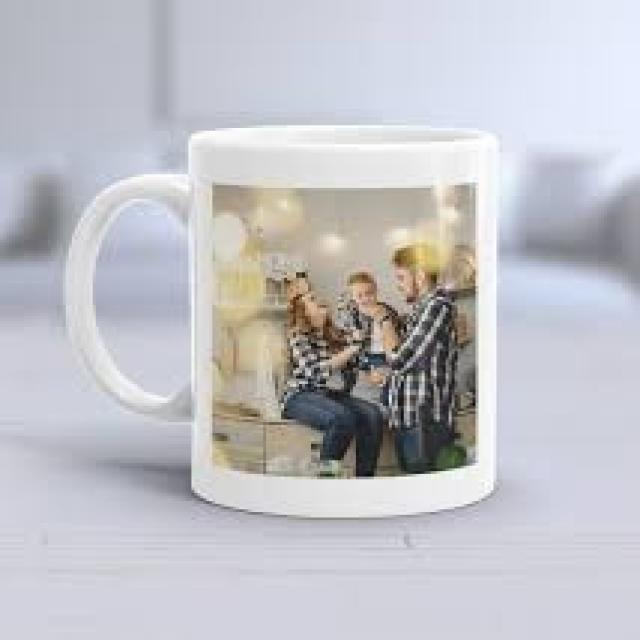taza: (63, 125, 500, 520)
